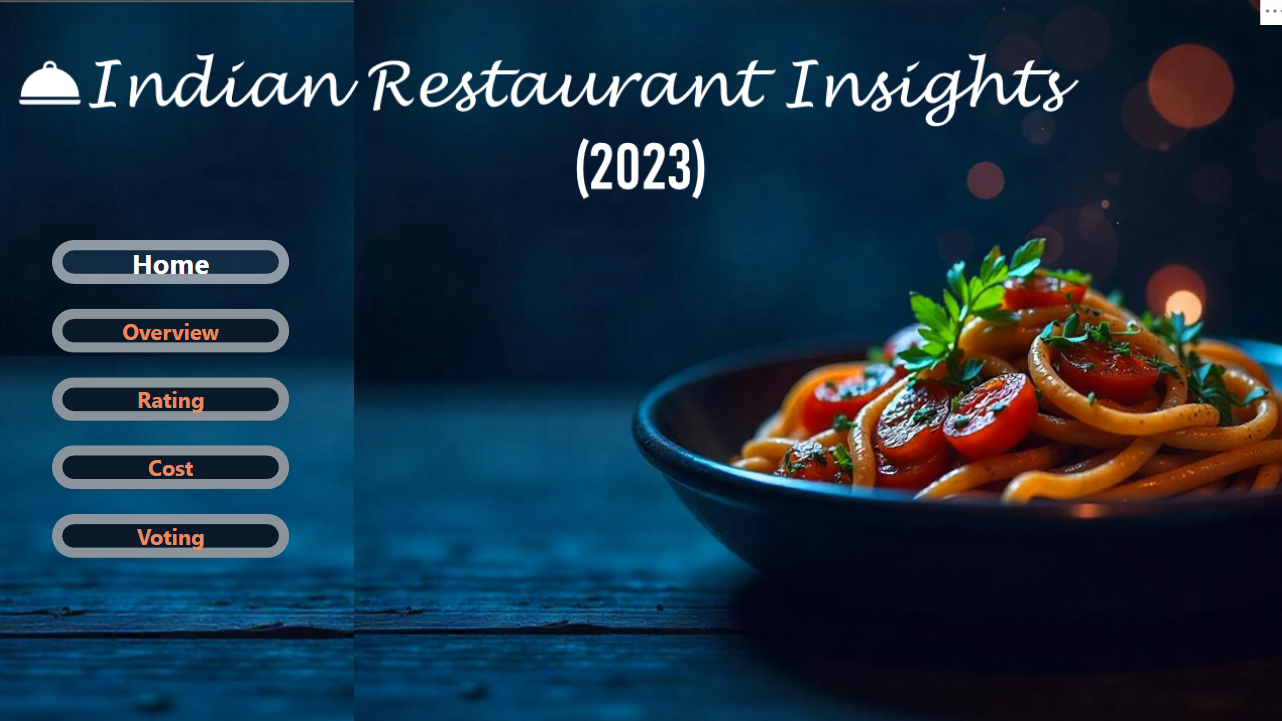

The dashboard page shown, as its layout file describes it:
{"tool":"powerbi","page":{"name":"Home","canvas":[1280,720],"ordinal":0},"visuals":[{"type":"image","box":[12.2,0,1268,720],"z":1000},{"type":"pageNavigator","box":[68.5,239.7,232.3,314.3],"z":1500}]}

Visuals, with their boxes in screenshot pixels (x1, y1, x2, y2), scaled from the page's 1280x720 canvas onto the 1282x721 screenshot:
image: (x1=12, y1=0, x2=1281, y2=720)
pageNavigator: (x1=69, y1=240, x2=301, y2=555)
